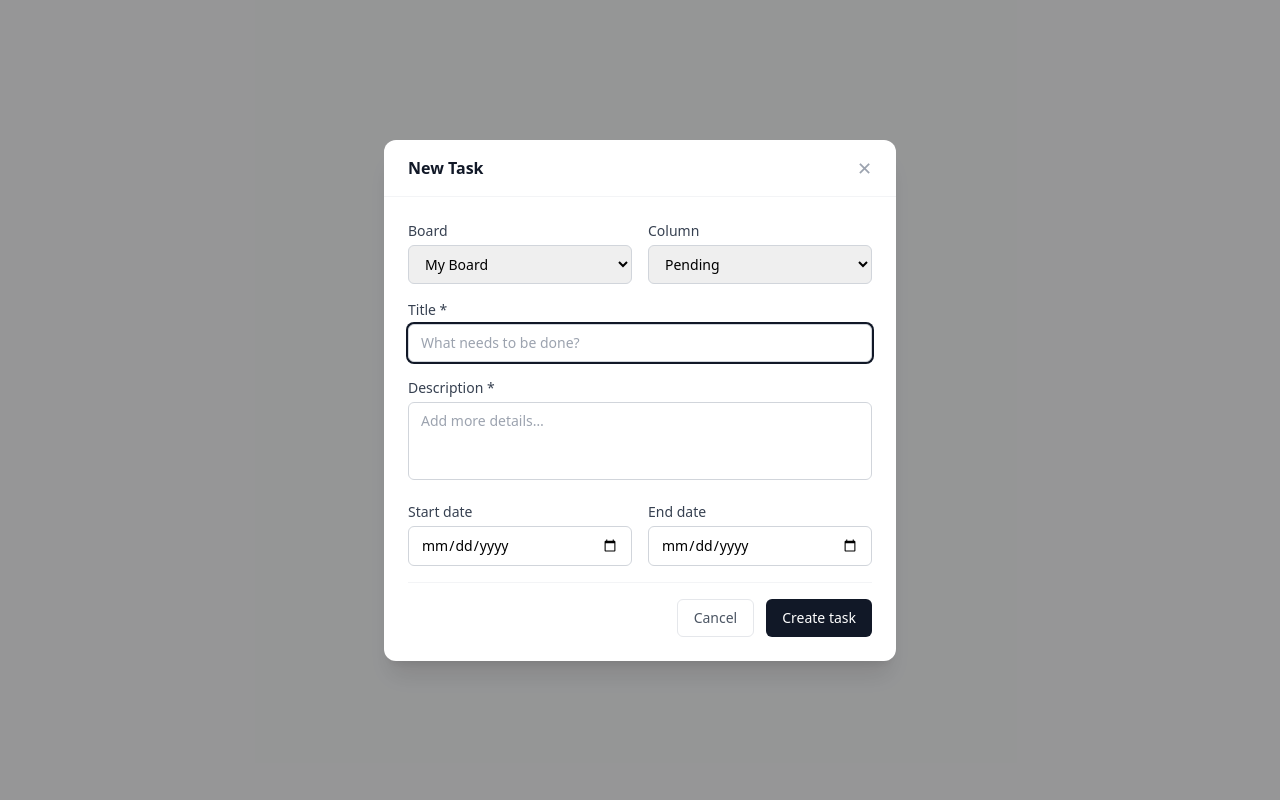
Scenario: TaskModal — create mode (US-02) › shows validation error when description is empty on submit
Type "My title" into the field with placeholder "What needs to be done?".
click(640, 342); type("My title")  # box [408, 324, 872, 362]
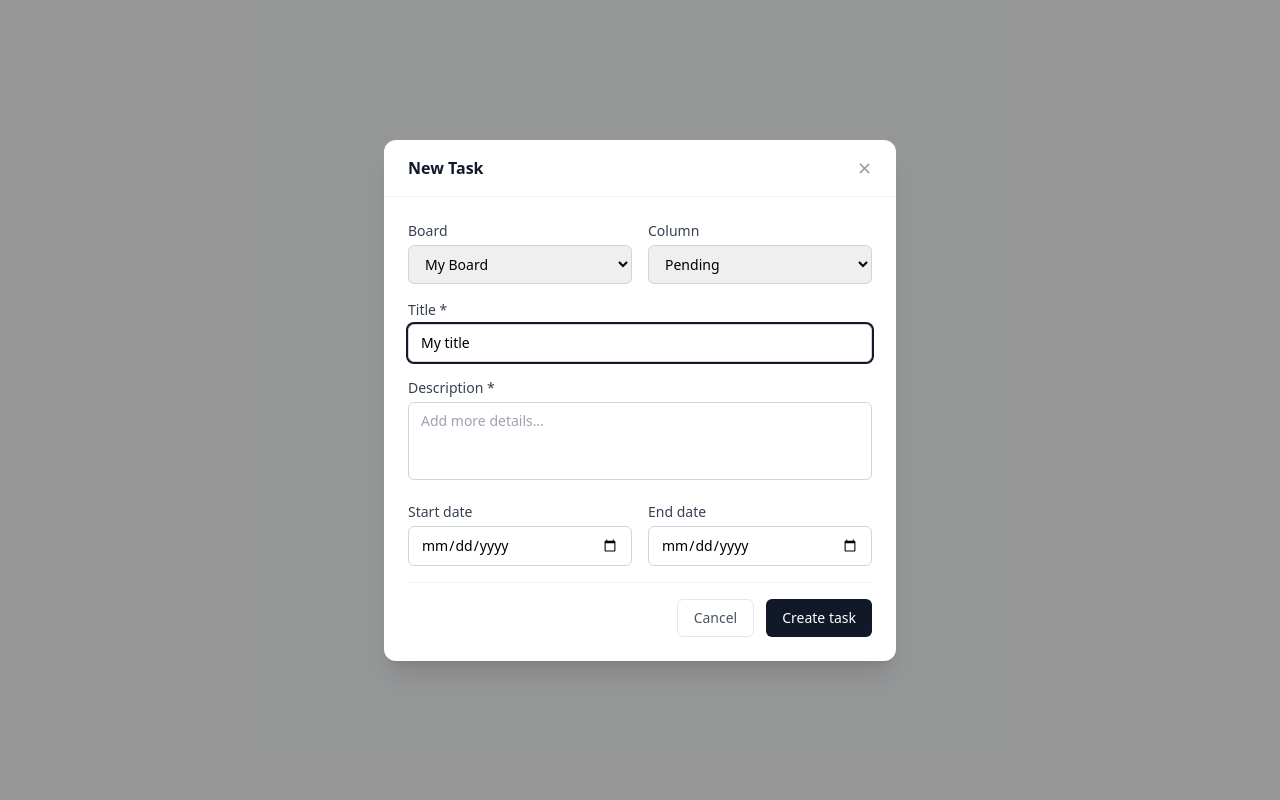
Click the button "Create task".
click(819, 618)  # box [766, 598, 872, 636]
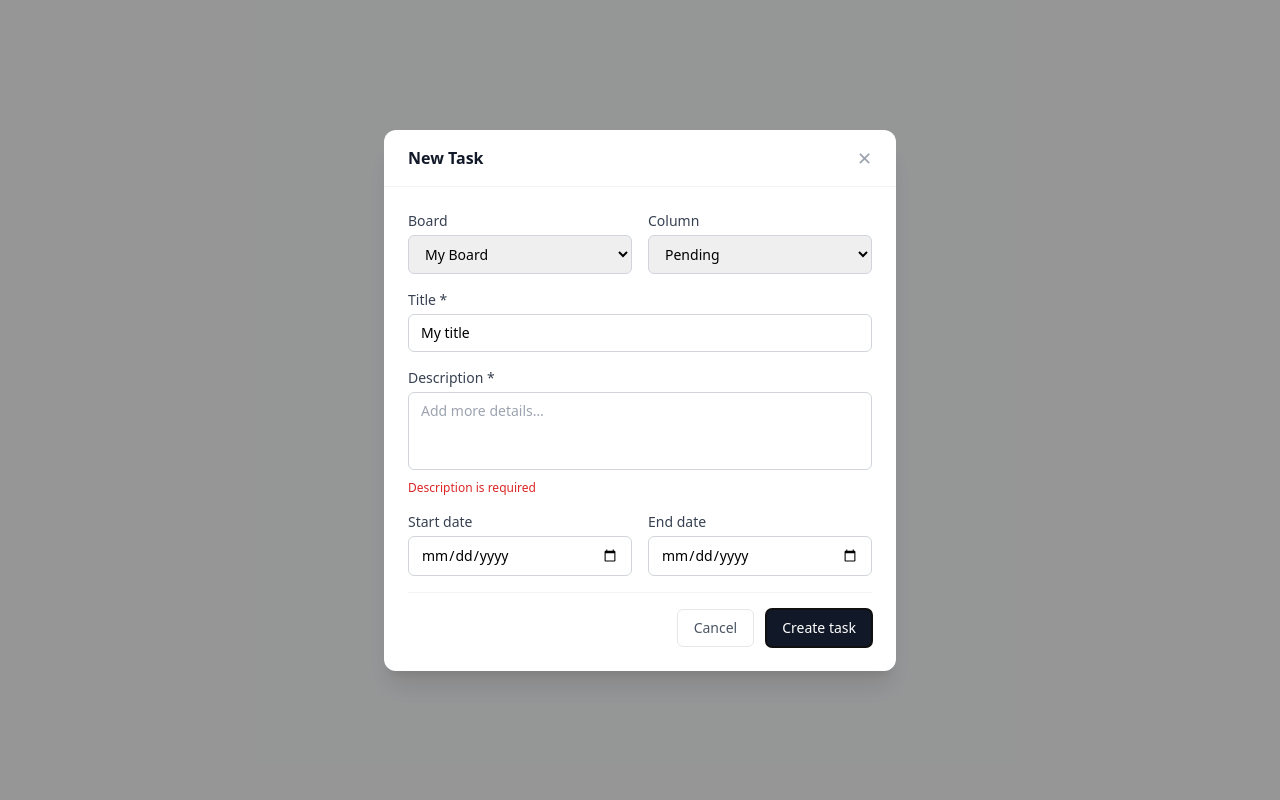
Result: the text "Description is required" is shown at [408, 478, 536, 496]
